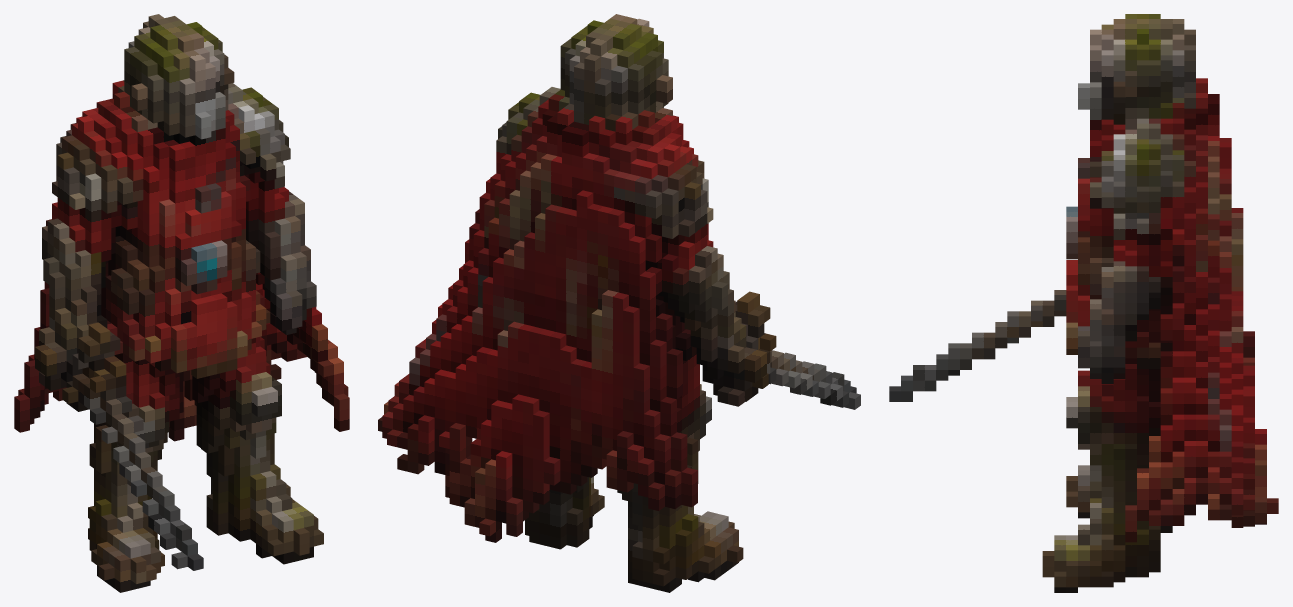
Rendered from u_bretteur.glb.
3 views of the same model, side by side, from view 1: azimuth 30°, elevation 25°; view 2: azimuth 150°, elevation 25°; view 3: azimuth 270°, elevation 25° (orthographic). The views are drawn at different scales.
Visible parts, largest first — view 1: bretteur_body; view 2: bretteur_body; view 3: bretteur_body.
Part boxes in pixels (x1,y1,x2,y2): bretteur_body: (14,14,349,592); bretteur_body: (378,14,860,592); bretteur_body: (889,14,1278,592).
Bounding box in the file's own units: 0.9167 × 1.4 × 0.9453.
1 material, 1 textured.
